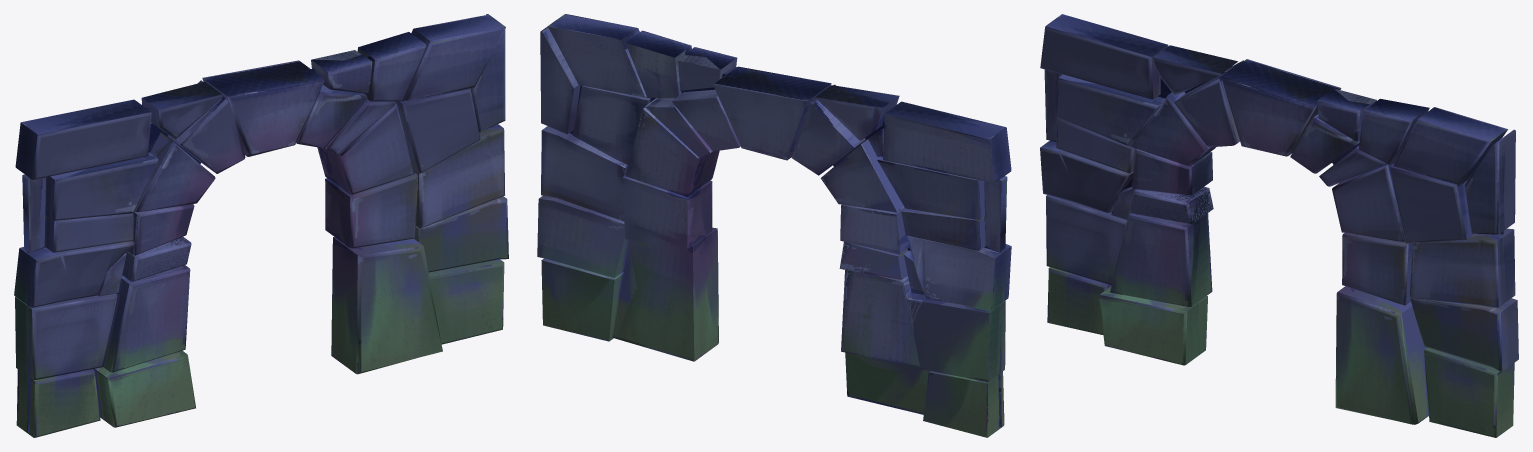
Rendered from Door_arch_wall.fbx.
3 renders of one model, left to right at view 1: azimuth 30°, elevation 25°; view 2: azimuth 150°, elevation 25°; view 3: azimuth 330°, elevation 25°, orthographic. The views are drawn at different scales.
Parts seen in each view (by area): view 1: Cube.002; view 2: Cube.002; view 3: Cube.002.
Part boxes in pixels (bbox=[...]): Cube.002: bbox=[14, 14, 508, 437]; Cube.002: bbox=[537, 14, 1011, 437]; Cube.002: bbox=[1040, 14, 1518, 437].
Size of the model in its own units: 616 by 385 by 85.78.
